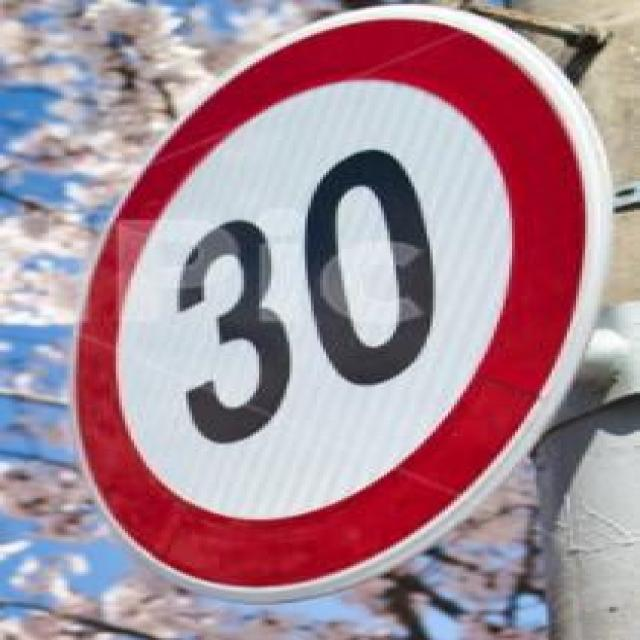Ograniczenie predkosci do 30: (73, 2, 607, 595)
